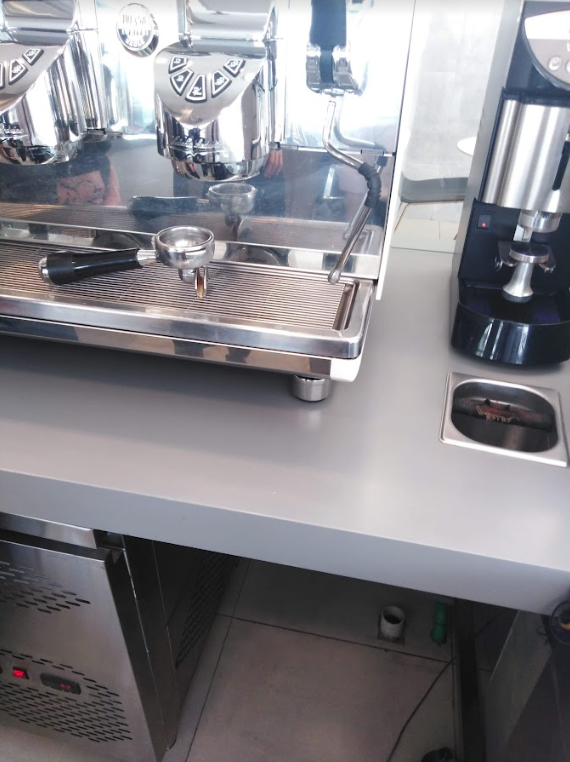Coffee Maker: (1, 3, 570, 479)
